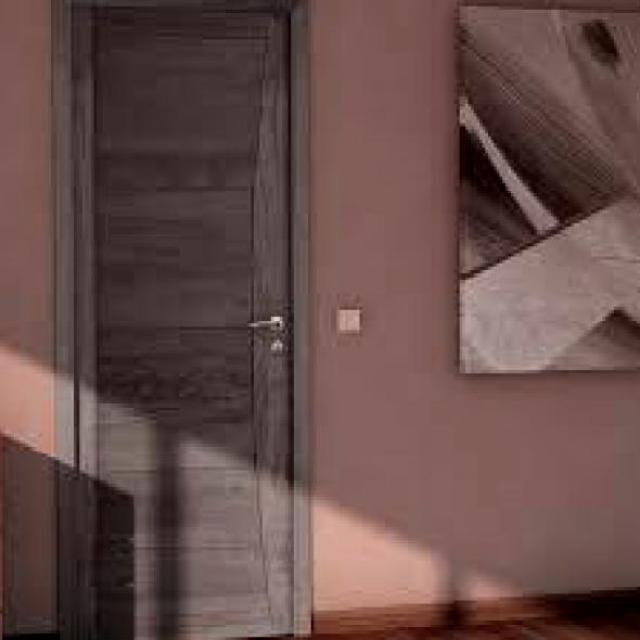door: (63, 1, 307, 637)
